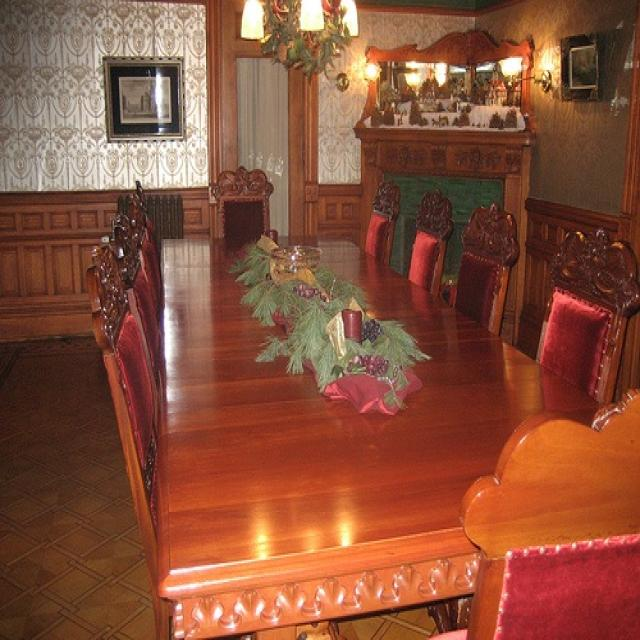chair: (456, 372, 638, 638), (78, 234, 168, 551), (535, 222, 632, 403), (451, 196, 521, 342), (206, 159, 278, 247), (404, 184, 456, 300), (361, 176, 402, 266)
diningtable: (157, 215, 639, 638)
